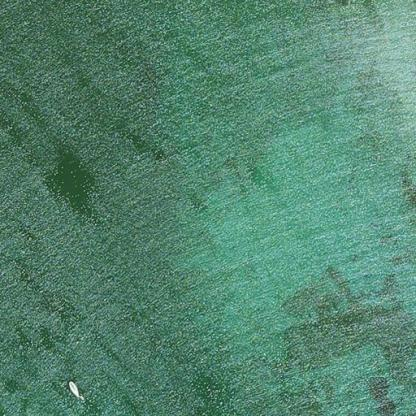ship: (62, 376, 88, 402)
